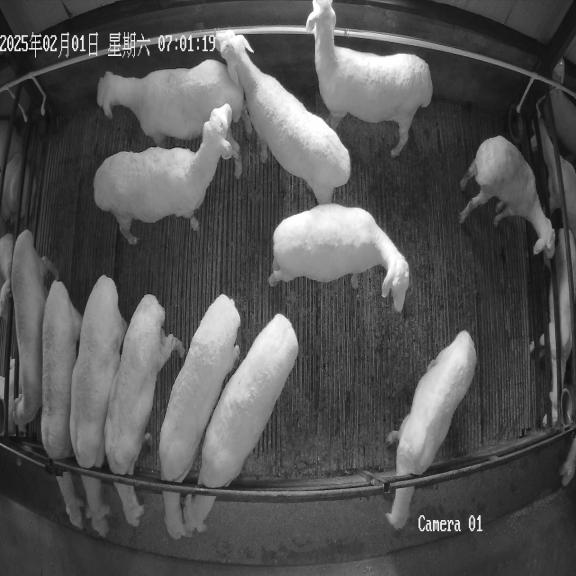eating: (182, 314, 298, 536), (159, 294, 240, 539), (104, 294, 184, 527), (385, 330, 476, 529), (70, 275, 127, 537), (41, 280, 84, 530)
stand: (216, 30, 351, 203), (306, 0, 433, 157), (94, 104, 234, 244), (269, 204, 410, 312), (97, 60, 251, 146), (460, 136, 555, 257), (11, 230, 47, 429), (226, 131, 242, 178)
